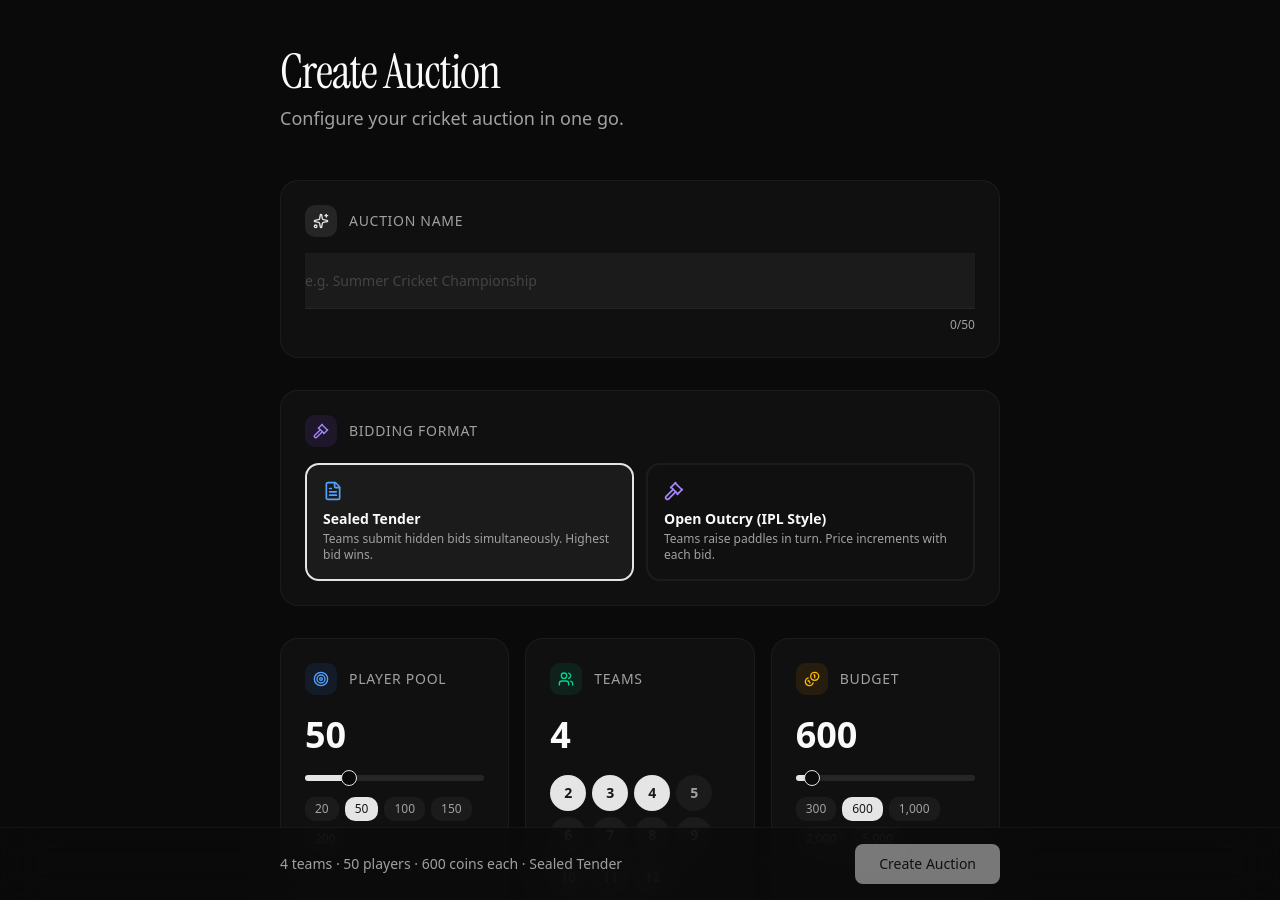
it: CreateAuctionPage › Auction Name Input › should enable Create Auction button when name has 3+ characters
The image size is (1280, 900).
Type "Test Auction" into the field with placeholder "e.g. Summer Cricket Championship" at (640, 281), box [305,253,975,309]
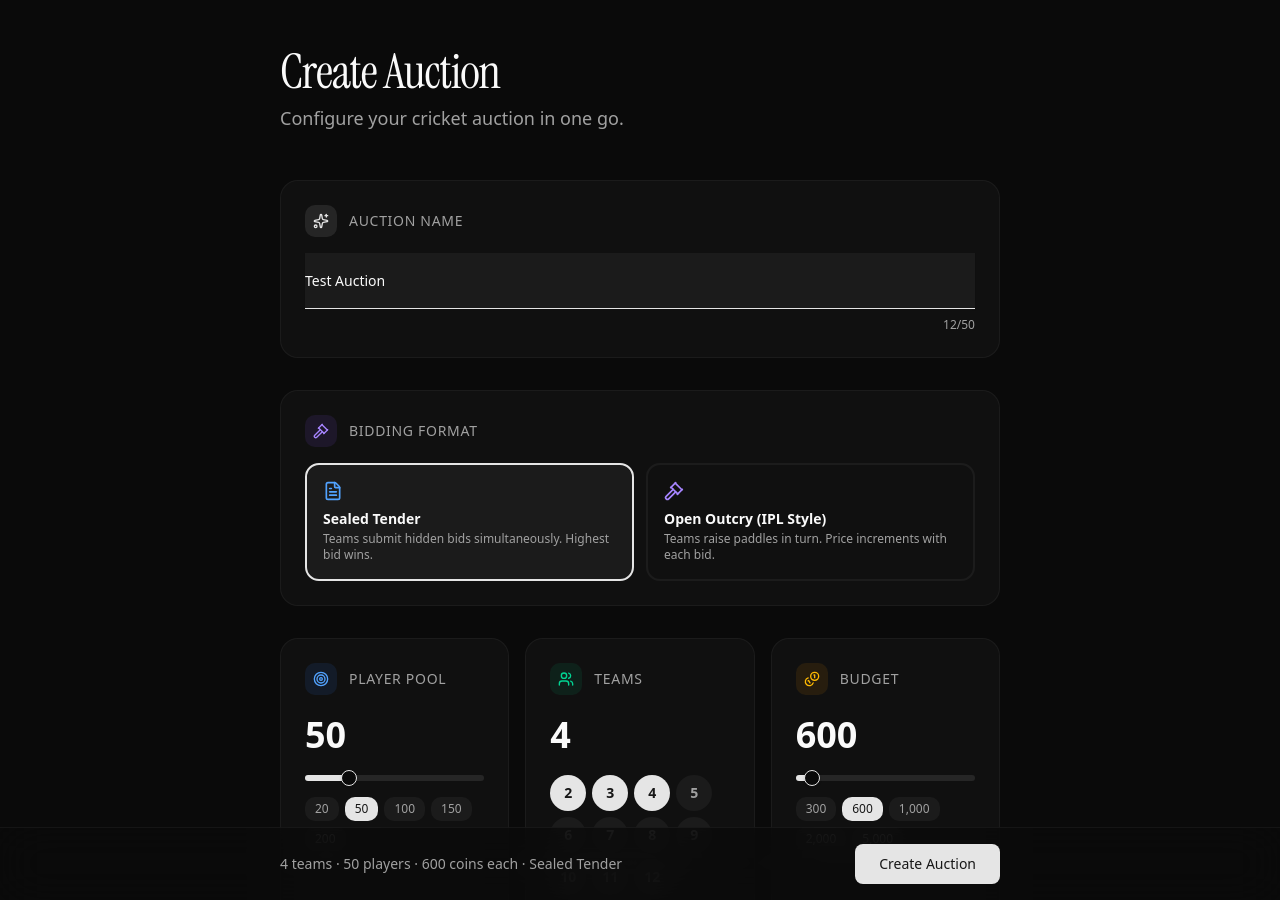
Expected: the button "Create Auction" is enabled, [855,844,1000,884]
